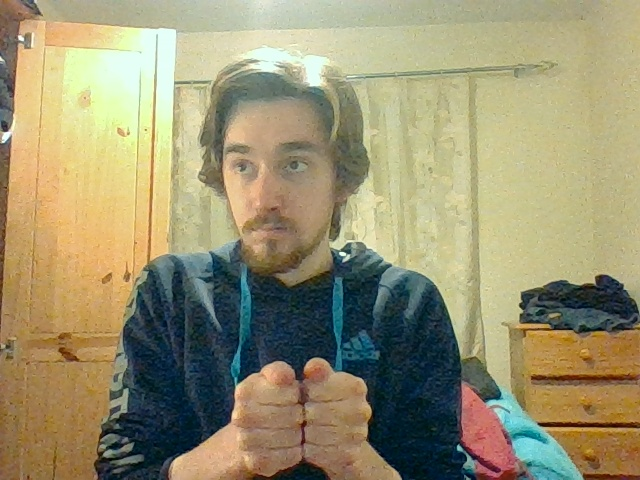brother: (233, 358, 372, 473)
